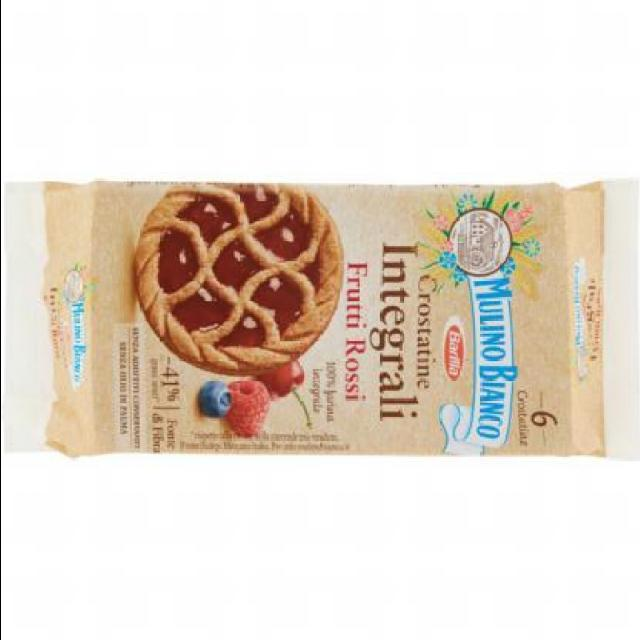Merendine: (46, 165, 609, 468)
